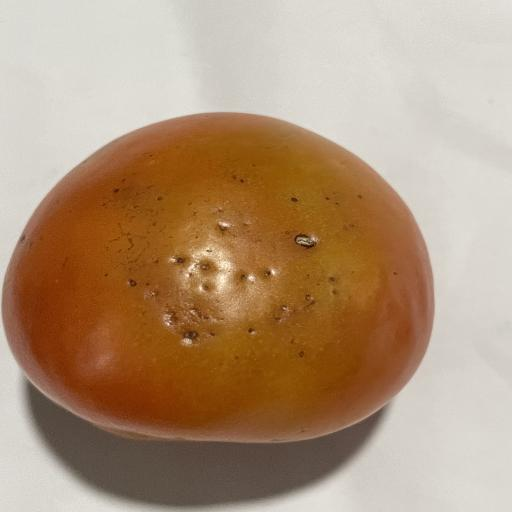unripe: (3, 113, 433, 443)
